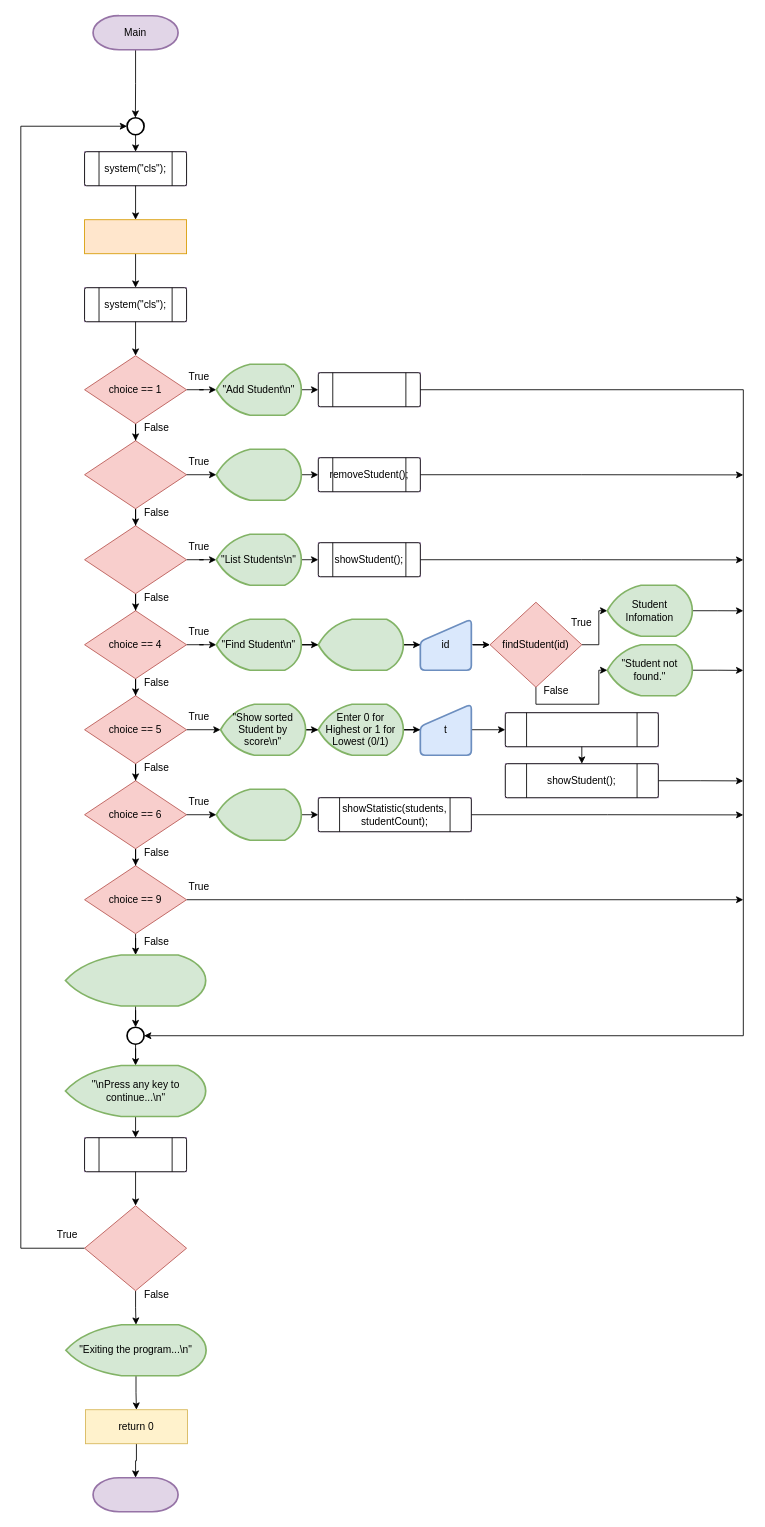
This 765x1527 diagram has some shape labels left out. The centre of each missing label's shape, as x and y in pixels:
"Enter Student ID to find:": (x=360, y=644)
"Invalid choice. Please try again.\n": (x=135, y=980)
"Remove Student\n": (x=258, y=474)
"Show Students Statistics\n": (x=258, y=814)
addStudent();: (x=368, y=389)
choice != 9: (x=135, y=1248)
choice = showMenu(): (x=135, y=236)
choice == 2: (x=135, y=474)
choice == 3: (x=135, y=559)
End: (x=135, y=1494)
getch(): (x=135, y=1154)
sortByScore(students, studentCount, t);: (x=581, y=729)
